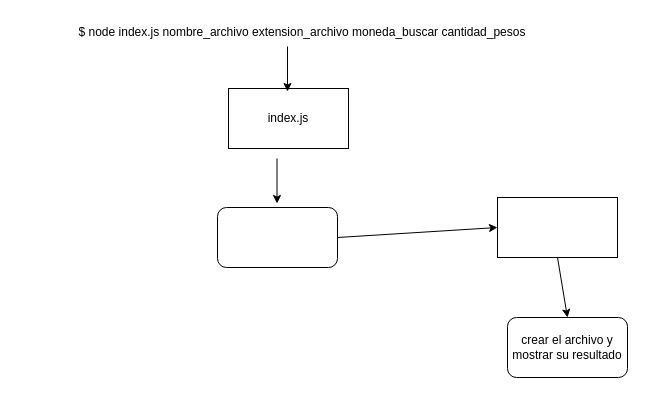
This 645x395 diagram has some shape labels left out. Each missing label, with the centre of its shape:
Consultar API ... para buscar el valor del tercer parametro: (277,237)
index.js child_proces: (557,227)
